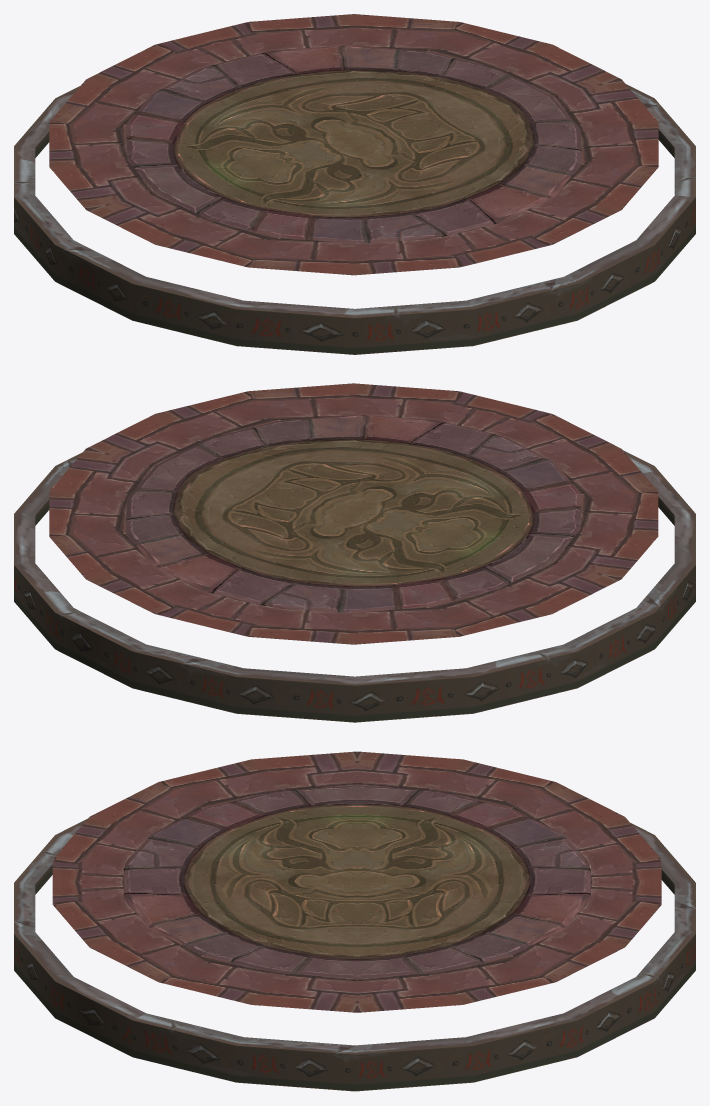
Rendered from Mofaypan001.FBX.
The picture shows the model from 3 angles, top to bottom: view 1: azimuth 30°, elevation 25°; view 2: azimuth 150°, elevation 25°; view 3: azimuth 270°, elevation 25°; orthographic projection.
Parts seen in each view (by area): view 1: mofayuanpan01; view 2: mofayuanpan01; view 3: mofayuanpan01.
Boxes of the visible parts, x1,y1,x2,y2 form: mofayuanpan01: (14, 14, 695, 354); mofayuanpan01: (14, 383, 695, 722); mofayuanpan01: (14, 751, 695, 1091).
Size of the model in its own units: 6631 by 6530 by 680.
Materials: 1 (1 with a texture image).
